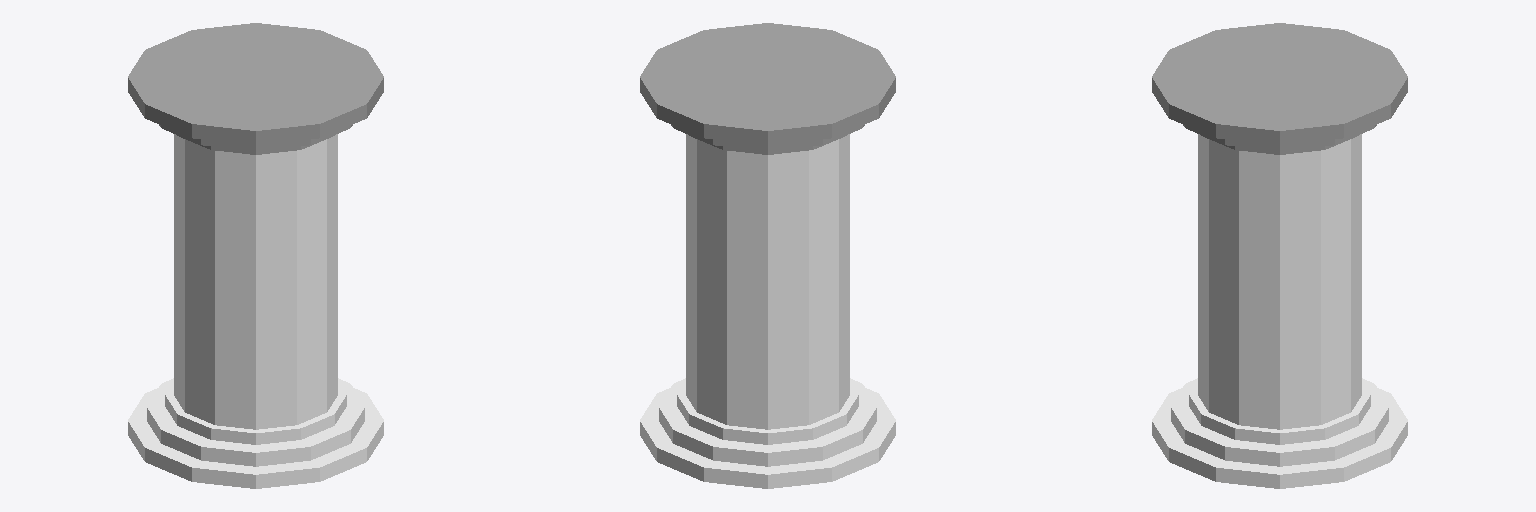
File: pedestal1.obj
3 views of the same model, side by side, from view 1: azimuth 30°, elevation 25°; view 2: azimuth 150°, elevation 25°; view 3: azimuth 270°, elevation 25° (orthographic).
Visible parts, largest first — view 1: Circle.001_Circle.003; view 2: Circle.001_Circle.003; view 3: Circle.001_Circle.003.
Boxes of the visible parts, x1,y1,x2,y2 form: Circle.001_Circle.003: [128, 23, 383, 488]; Circle.001_Circle.003: [640, 23, 895, 488]; Circle.001_Circle.003: [1152, 23, 1407, 488].
Bounding box in the file's own units: 0.8824 × 1.36 × 0.8824.